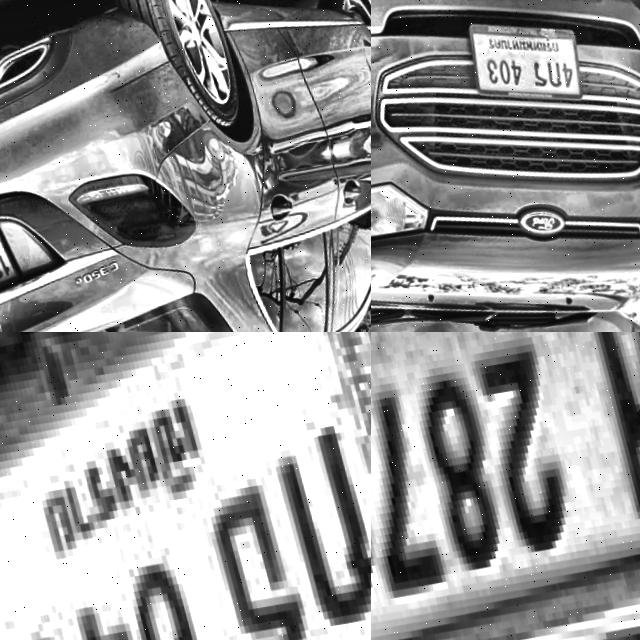license-plate: (0, 332, 371, 640), (371, 332, 640, 640), (451, 0, 591, 123), (0, 220, 24, 317)
